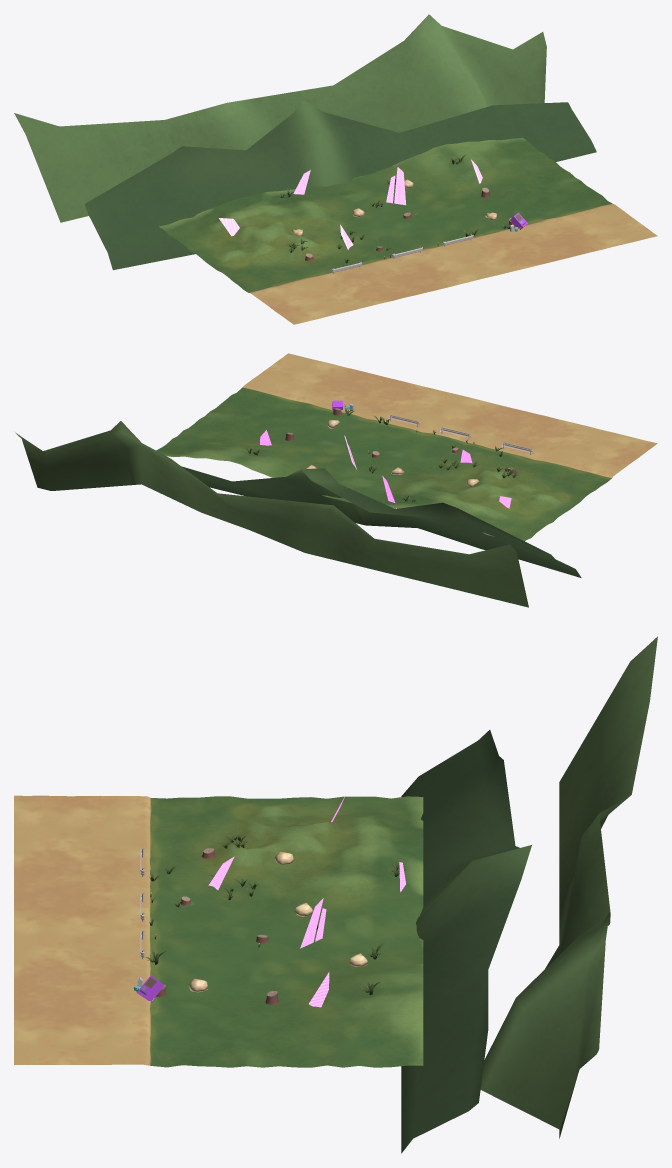
File: StageSelect_Stage01_GrassField.fbx
3 renders of one model, top to bottom at view 1: azimuth 30°, elevation 25°; view 2: azimuth 150°, elevation 25°; view 3: azimuth 270°, elevation 25°, orthographic. The views are drawn at different scales.
Visible parts, largest first — view 1: Stage01_GrassField; view 2: Stage01_GrassField; view 3: Stage01_GrassField.
Part boxes in pixels (x1,y1,x2,y2): Stage01_GrassField: (14,14,657,324); Stage01_GrassField: (15,353,657,607); Stage01_GrassField: (14,636,657,1153).
Size of the model in its own units: 775 by 561 by 163.
